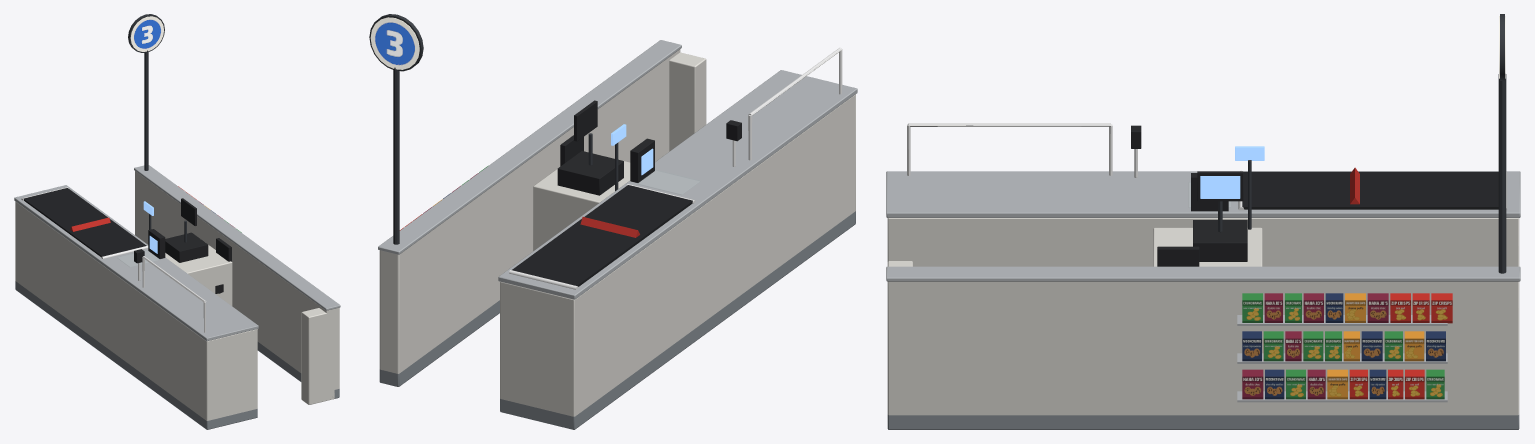
File: checkout_3.glb
3 views of the same model, side by side, from view 1: azimuth 30°, elevation 25°; view 2: azimuth 150°, elevation 25°; view 3: azimuth 270°, elevation 25° (orthographic). The views are drawn at different scales.
Parts seen in each view (by area): view 1: checkout_3; view 2: checkout_3; view 3: checkout_3.
Part boxes in pixels (bbox=[...]): checkout_3: bbox=[14, 14, 340, 429]; checkout_3: bbox=[369, 14, 857, 429]; checkout_3: bbox=[886, 14, 1520, 429].
Bounding box in the file's own units: 6.53 × 10.7 × 15.06.
Materials: 12 (2 with a texture image).
